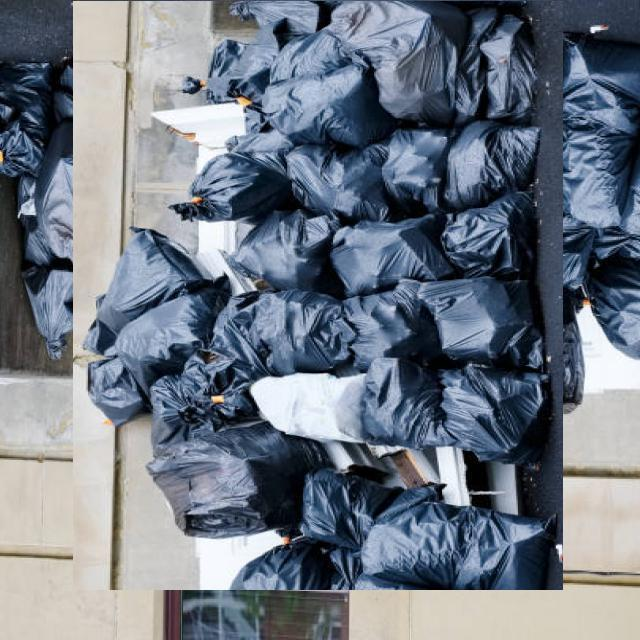Trashbag: (326, 0, 475, 135), (359, 492, 558, 592), (146, 425, 309, 540), (213, 284, 354, 389), (421, 273, 542, 363), (234, 202, 344, 294), (450, 358, 544, 463), (114, 299, 211, 397), (262, 70, 372, 156), (362, 353, 462, 445), (334, 220, 449, 298), (285, 137, 380, 230), (444, 194, 547, 278), (181, 34, 276, 121), (376, 120, 451, 228), (90, 230, 194, 307), (462, 12, 534, 122), (447, 120, 537, 208), (179, 155, 293, 221), (295, 468, 381, 554), (274, 36, 357, 80)
